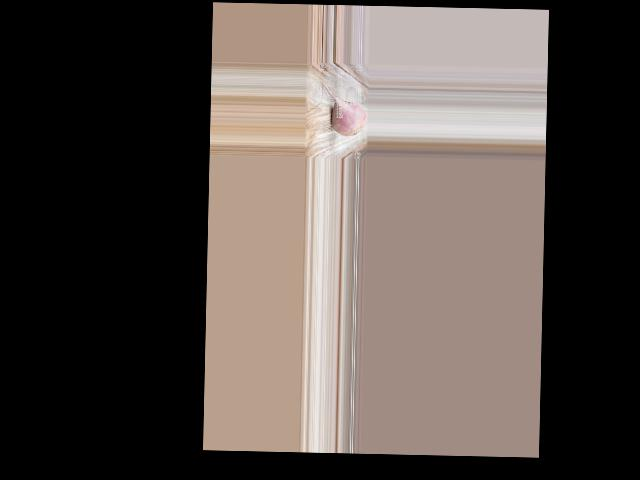beet: (320, 82, 367, 136)
